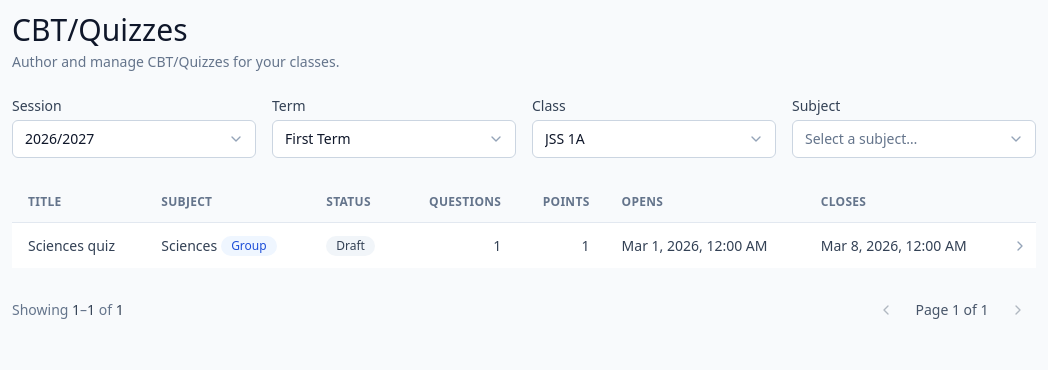
Test: TakeHomeQuizzesPage › offers the class's subject groups above its subjects and filters by the chosen group
Click the dropdown labelled "Subject": coordinates (914, 139) [792,120,1036,158]
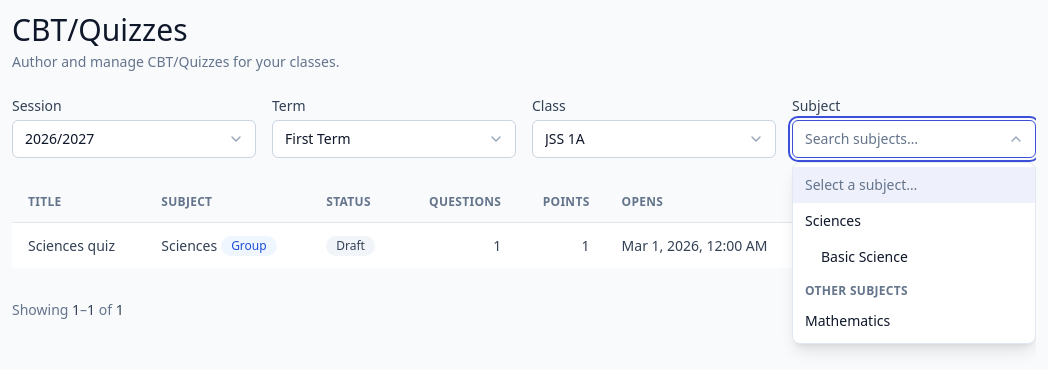
expect the option "Sciences" is shown: met
expect the options read "Select a subject…", "Sciences", "Basic Science", "Mathematics", in this order: met
expect the list "Other subjects" shows "Mathematics": met, box [805,311,890,330]
Click the option "Sciences": coordinates (833, 220) [805,211,861,230]
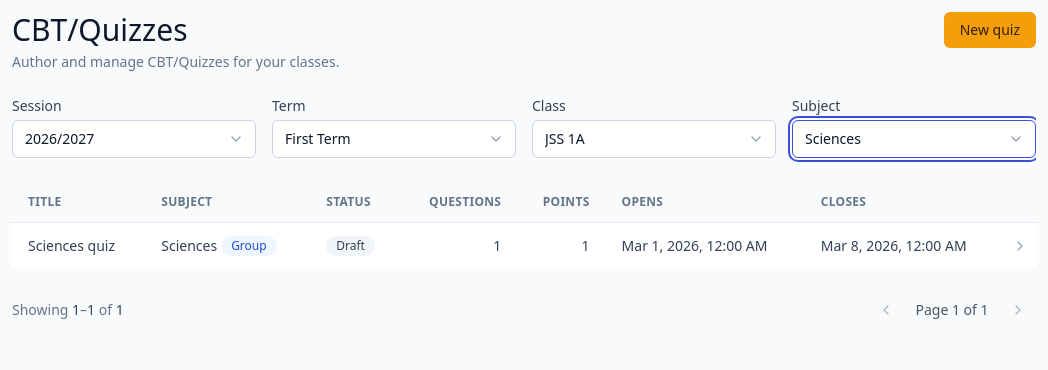
expect the text "Group" is shown: met, box [221,236,277,256]
expect the button "New quiz" is shown: met, box [944,12,1036,48]
